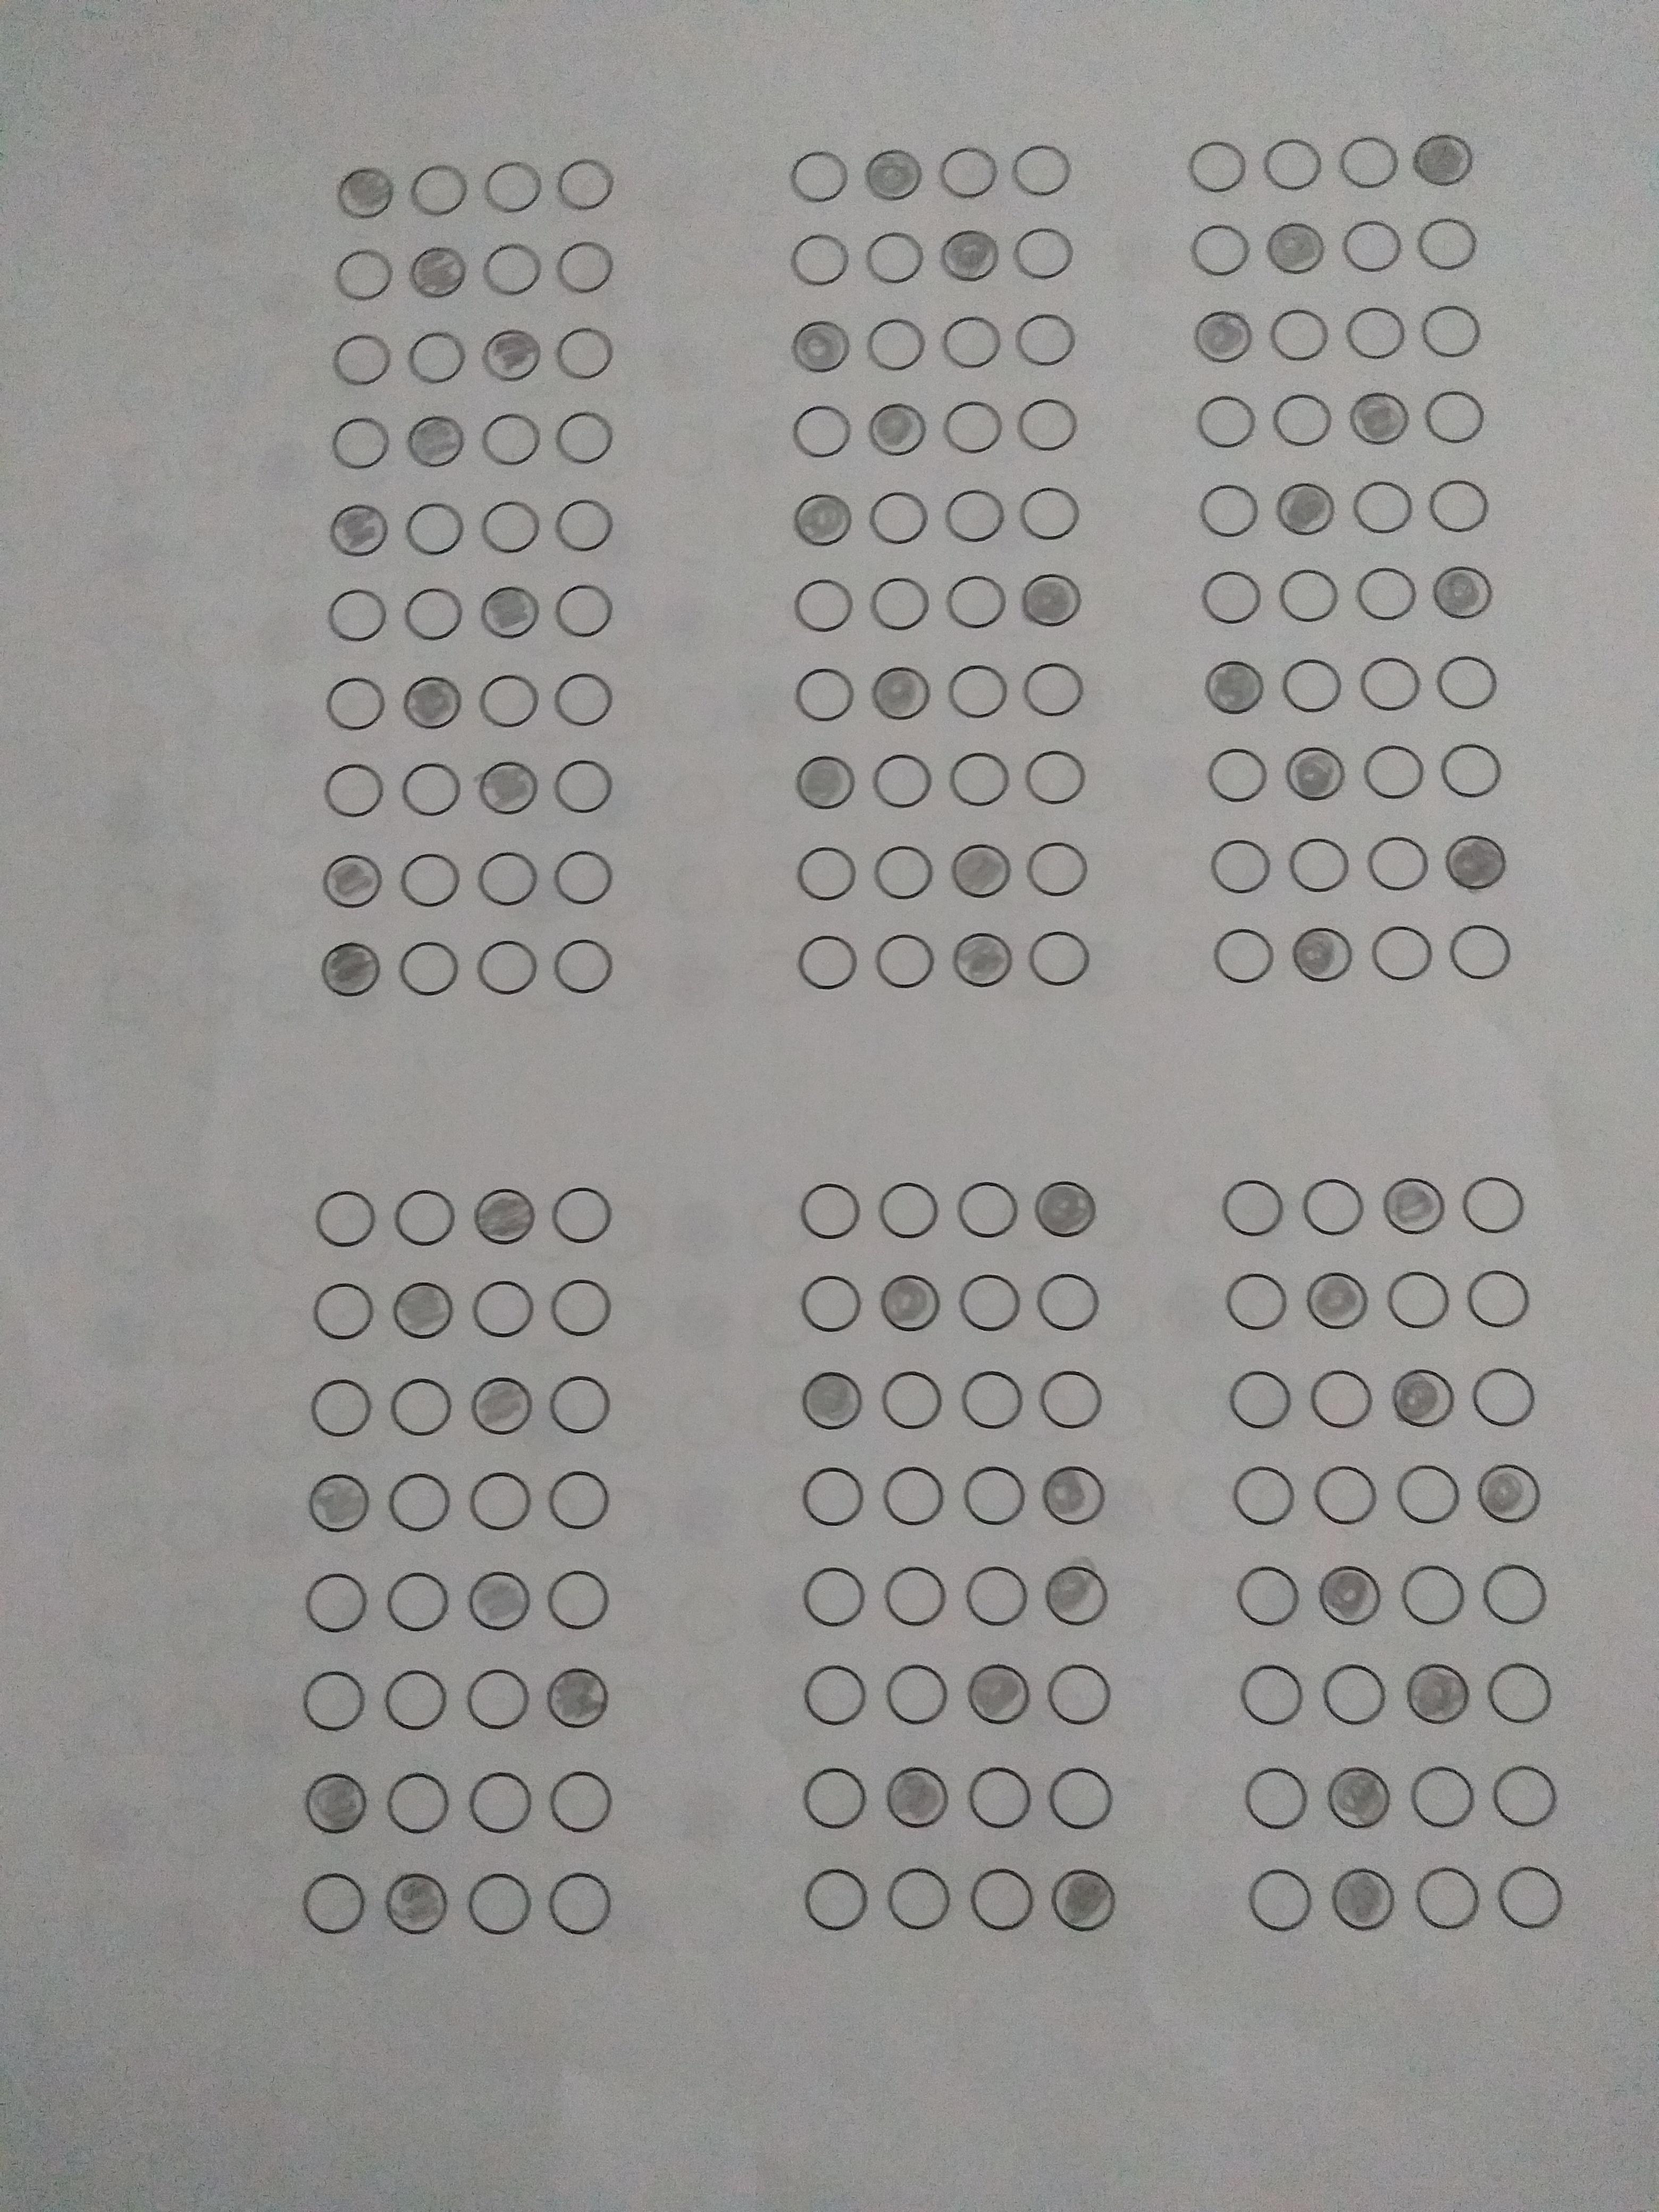not-c: (1239, 1860, 1323, 1947), (1236, 1756, 1319, 1841), (791, 1761, 871, 1843), (1046, 1761, 1127, 1841), (798, 1858, 880, 1939), (789, 1555, 873, 1634), (958, 1555, 1037, 1639), (1486, 1764, 1567, 1844), (796, 1655, 878, 1733), (1225, 1453, 1303, 1534), (458, 1660, 537, 1740), (957, 1759, 1037, 1838), (291, 1662, 373, 1738), (382, 1766, 458, 1848), (965, 1864, 1042, 1946), (1215, 1172, 1293, 1251), (1042, 1653, 1122, 1730), (871, 1172, 946, 1254), (298, 1559, 376, 1635), (1216, 1268, 1297, 1343), (291, 1867, 373, 1940), (544, 1766, 620, 1843), (875, 1360, 951, 1437), (1495, 1857, 1568, 1937), (882, 1658, 957, 1735), (884, 1865, 960, 1940), (1483, 1566, 1560, 1641), (1234, 1662, 1312, 1735), (300, 1372, 380, 1444), (1396, 1568, 1476, 1639), (1401, 1764, 1481, 1836), (1342, 477, 1425, 545), (460, 1869, 537, 1942), (1321, 1660, 1394, 1737), (1204, 920, 1283, 991), (1485, 1663, 1563, 1735), (545, 1183, 620, 1256), (544, 1867, 619, 1940), (957, 1364, 1032, 1437), (957, 1463, 1032, 1536), (795, 1176, 866, 1252), (1412, 1858, 1483, 1935), (385, 1371, 455, 1449), (877, 1461, 946, 1540), (1354, 651, 1432, 721), (1201, 833, 1279, 902), (1378, 1266, 1457, 1336), (464, 1768, 537, 1841), (791, 836, 864, 909), (1349, 561, 1424, 632), (392, 845, 469, 914), (795, 1463, 871, 1533), (882, 1559, 951, 1635), (1436, 737, 1516, 803), (1457, 1172, 1540, 1235), (383, 1467, 455, 1540), (1356, 738, 1429, 810), (308, 1184, 383, 1254), (1363, 921, 1438, 991), (791, 1271, 868, 1339), (1303, 1367, 1380, 1435), (1466, 1366, 1542, 1433), (957, 1268, 1026, 1341), (1298, 1174, 1371, 1244), (1234, 1561, 1307, 1630), (464, 1467, 538, 1534), (540, 1568, 615, 1635), (781, 226, 856, 294), (871, 923, 939, 998), (1030, 1270, 1105, 1338), (1033, 1364, 1108, 1432), (1192, 477, 1267, 545), (1279, 833, 1356, 899), (549, 153, 619, 225), (317, 671, 389, 740), (392, 1183, 460, 1256), (545, 1270, 619, 1338), (382, 1662, 450, 1735), (782, 397, 856, 465), (1466, 1268, 1539, 1336), (397, 498, 472, 564), (1276, 655, 1351, 721), (1417, 387, 1493, 451), (322, 583, 392, 653), (469, 1275, 538, 1345), (1448, 920, 1518, 989), (551, 669, 619, 740), (474, 937, 542, 1008), (544, 1369, 615, 1437), (1202, 738, 1274, 806), (322, 411, 396, 477), (315, 759, 389, 826), (1223, 1369, 1297, 1435), (1014, 484, 1089, 549), (791, 934, 868, 996), (549, 845, 619, 913), (308, 1278, 378, 1346), (868, 571, 936, 641), (1436, 651, 1506, 719), (551, 237, 622, 303), (328, 326, 399, 392), (551, 324, 622, 390), (1012, 305, 1084, 371), (953, 1172, 1019, 1244), (1021, 834, 1094, 899), (1197, 568, 1270, 632), (786, 575, 861, 637), (1192, 388, 1267, 451), (1019, 660, 1096, 721), (545, 1467, 612, 1536), (1009, 141, 1079, 207), (863, 230, 932, 296), (943, 481, 1009, 550), (1392, 1463, 1462, 1529), (552, 408, 624, 472), (1023, 925, 1094, 989), (1431, 475, 1502, 540), (387, 1568, 450, 1641), (1415, 301, 1493, 359), (1258, 131, 1326, 197), (403, 327, 472, 392), (943, 660, 1012, 725), (1023, 747, 1093, 812), (1312, 1463, 1382, 1527), (328, 244, 399, 307), (1014, 394, 1086, 456), (1265, 303, 1337, 366), (1364, 833, 1436, 895), (549, 580, 622, 641), (936, 397, 1009, 458), (1187, 136, 1260, 197), (479, 498, 547, 563), (397, 580, 465, 644), (474, 846, 542, 911), (396, 937, 464, 1001), (551, 495, 620, 557), (549, 756, 619, 819), (1011, 225, 1080, 287), (1335, 136, 1406, 197), (1187, 221, 1258, 282), (552, 937, 617, 1003), (948, 749, 1014, 813), (1342, 303, 1410, 366), (397, 759, 467, 820), (936, 314, 1006, 374), (795, 665, 864, 726), (477, 157, 544, 219), (481, 239, 547, 301), (863, 315, 929, 378), (870, 749, 936, 812), (1277, 566, 1344, 629), (934, 145, 1002, 206), (1270, 388, 1338, 449), (476, 411, 545, 470), (864, 488, 934, 547), (789, 150, 852, 214), (945, 570, 1009, 632), (472, 674, 544, 730), (1417, 214, 1483, 273), (1337, 219, 1406, 275), (406, 160, 471, 219), (873, 843, 939, 900)
taken-c: (1405, 1656, 1474, 1726), (1044, 1557, 1112, 1629), (1330, 1862, 1398, 1933), (1051, 1864, 1119, 1933), (1326, 1761, 1394, 1831), (542, 1665, 610, 1731), (301, 1768, 368, 1836), (967, 1658, 1032, 1728), (1042, 1460, 1107, 1527), (1474, 1460, 1542, 1524), (383, 1871, 450, 1935), (885, 1763, 950, 1829), (1317, 1562, 1384, 1627), (467, 1569, 535, 1632), (1387, 1366, 1455, 1428), (471, 1372, 535, 1437), (307, 1470, 371, 1534), (1441, 829, 1507, 892), (1033, 1177, 1100, 1240), (871, 658, 934, 723), (800, 1369, 864, 1432), (471, 1186, 537, 1247), (1290, 923, 1354, 984), (948, 841, 1014, 900), (1283, 744, 1349, 803), (1305, 1270, 1371, 1329), (477, 326, 545, 383), (481, 580, 542, 643), (1019, 570, 1082, 631), (1413, 129, 1476, 190), (392, 1278, 455, 1339), (878, 1271, 941, 1332), (1384, 1176, 1446, 1237), (321, 850, 385, 909), (861, 145, 925, 204), (1432, 561, 1493, 622), (404, 411, 467, 470), (477, 756, 540, 815), (789, 317, 852, 376), (793, 489, 856, 549), (793, 751, 856, 810), (1349, 388, 1412, 448), (951, 930, 1016, 988), (1274, 479, 1338, 536), (1202, 658, 1267, 716), (410, 242, 471, 301), (939, 225, 1000, 284), (866, 399, 927, 458), (328, 502, 390, 559), (1192, 308, 1255, 366), (319, 941, 383, 996), (336, 164, 397, 221), (1263, 221, 1328, 275), (403, 672, 464, 728)
